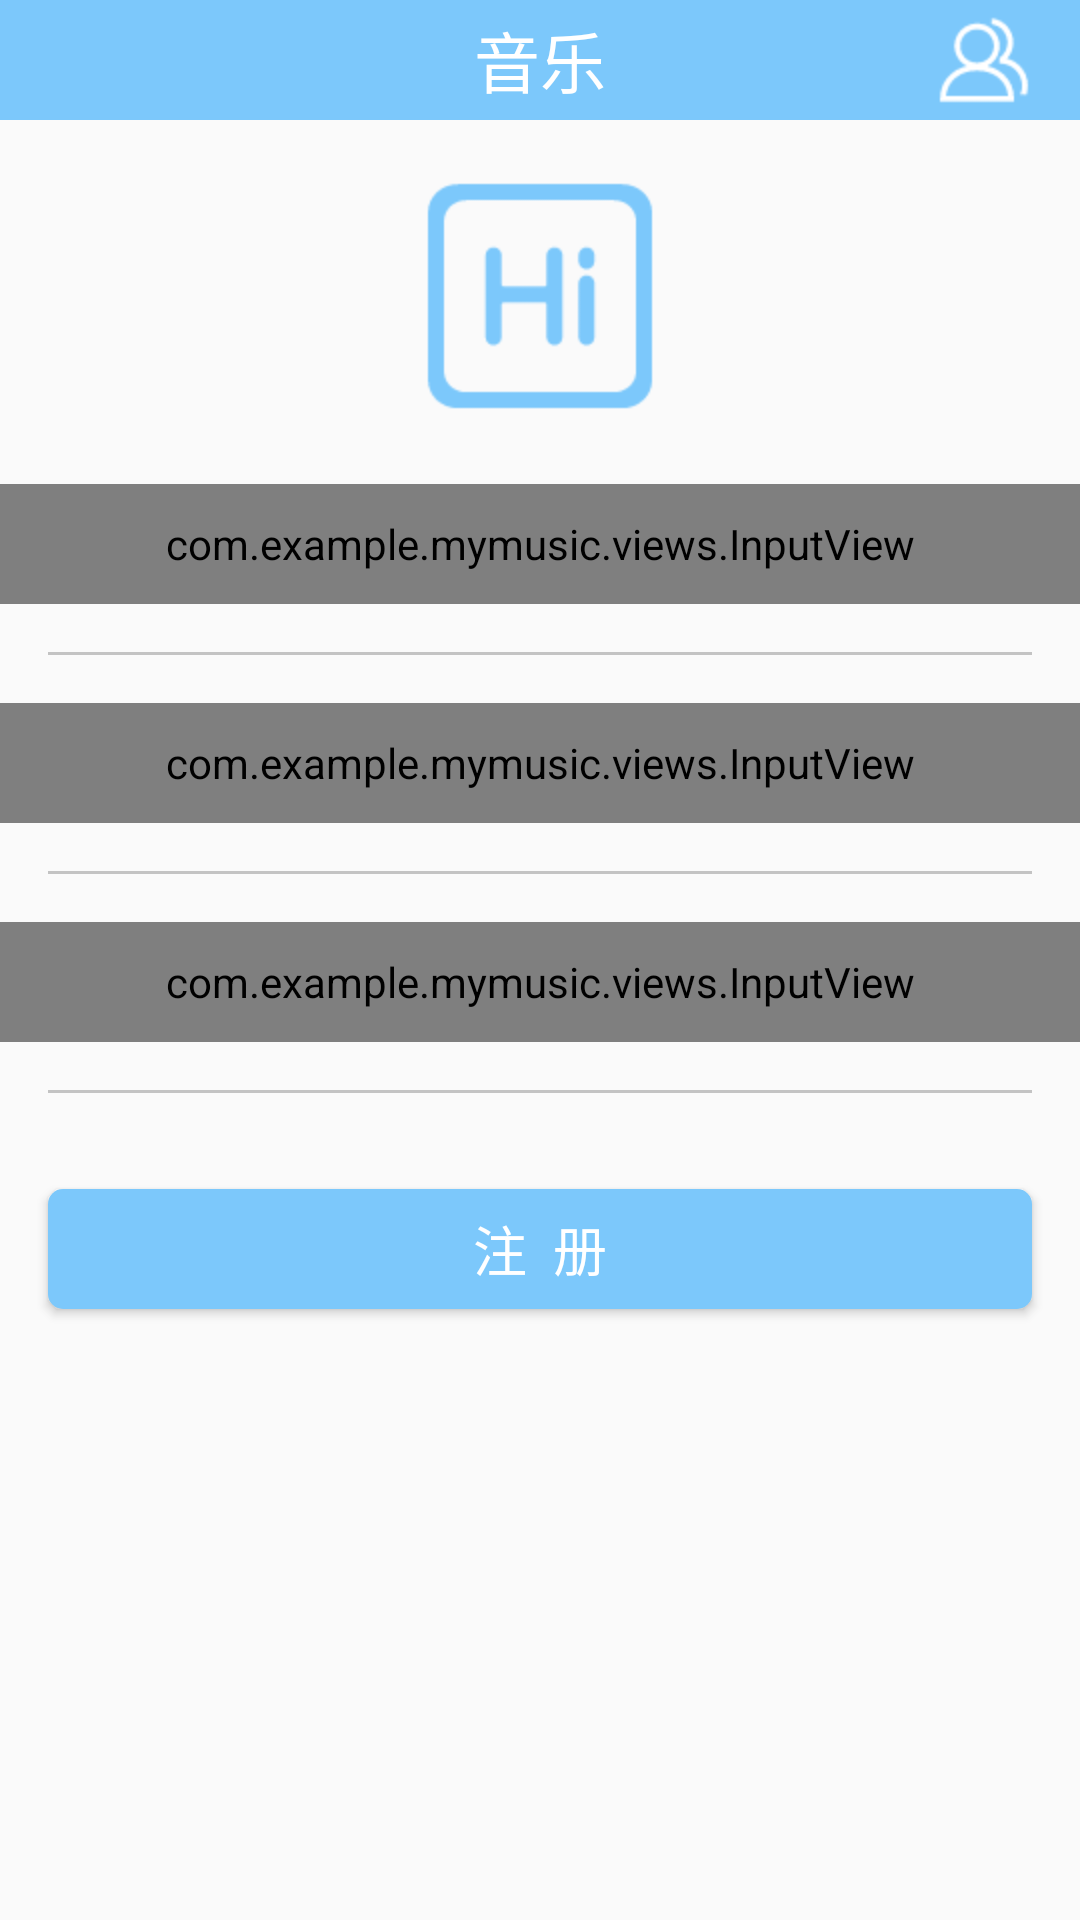

Locate icon controls on the screen. Image size 1080*1920, boxes as (x1, y1, x2, y2).
user: (939, 18, 1029, 103)
